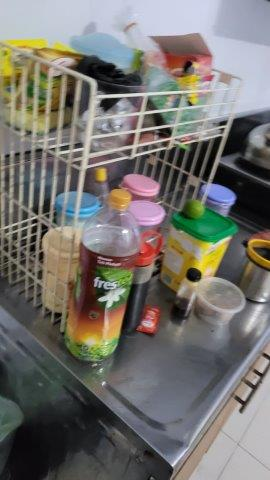botolplastik: (64, 189, 143, 363)
